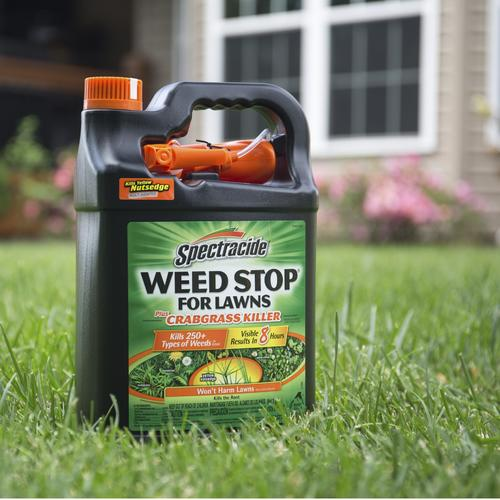crabgrass: (131, 366, 174, 396)
